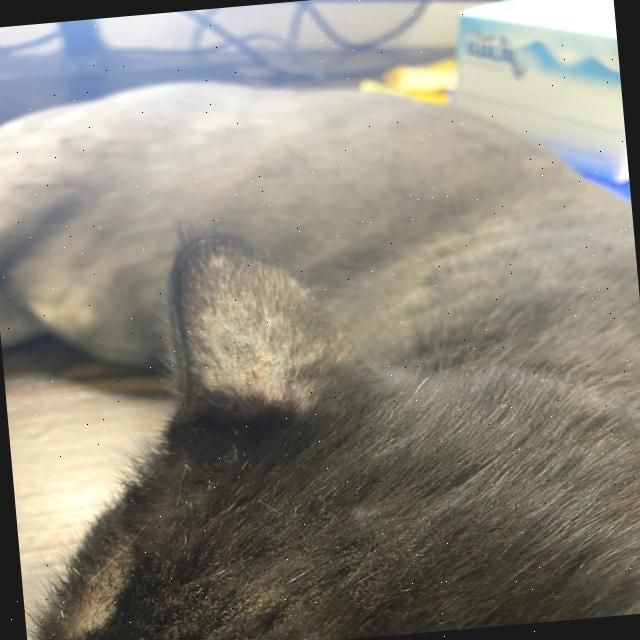cat-hairloss: (162, 228, 360, 432)
